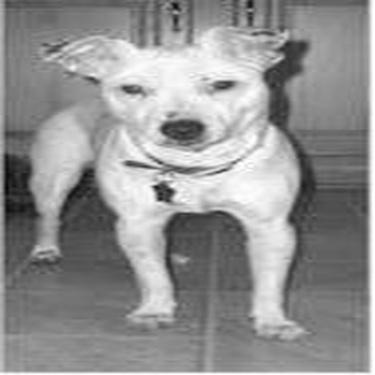dog: (18, 17, 316, 346)
